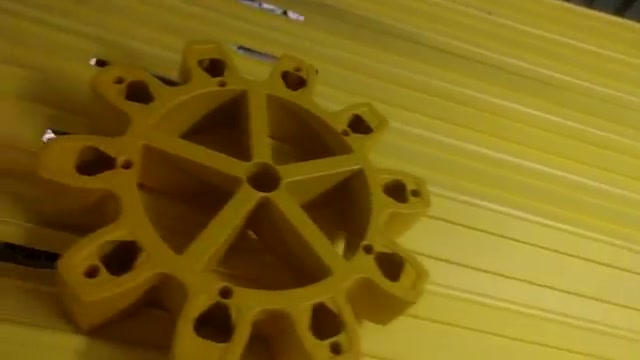gear: (27, 22, 445, 359)
